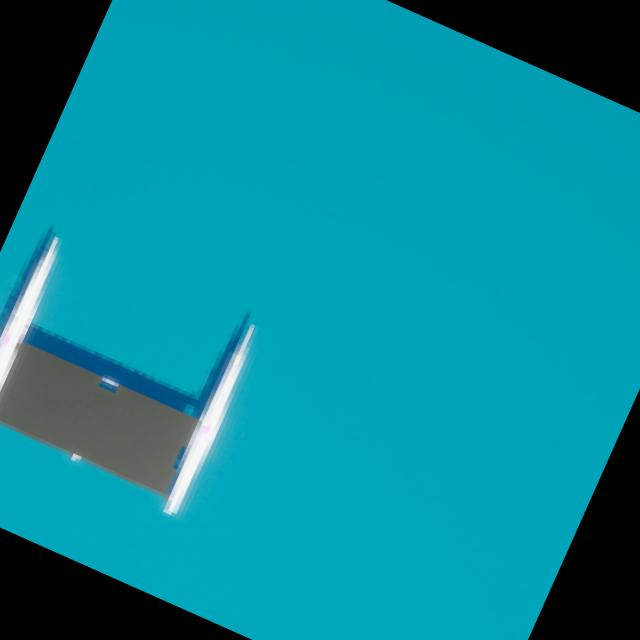boat: (0, 206, 282, 534)
drone: (0, 340, 191, 490)
